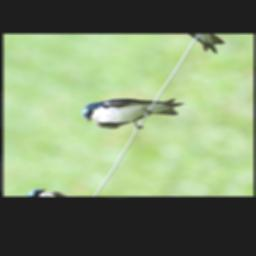Swallow: (77, 74, 188, 147)
